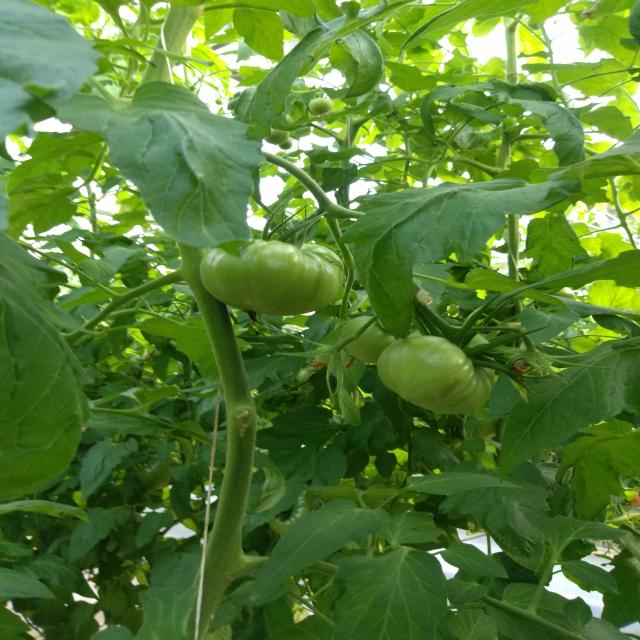n-unriped: (198, 238, 345, 318), (376, 326, 496, 414), (340, 316, 400, 363), (314, 346, 340, 366), (264, 126, 290, 144), (308, 97, 333, 115)
